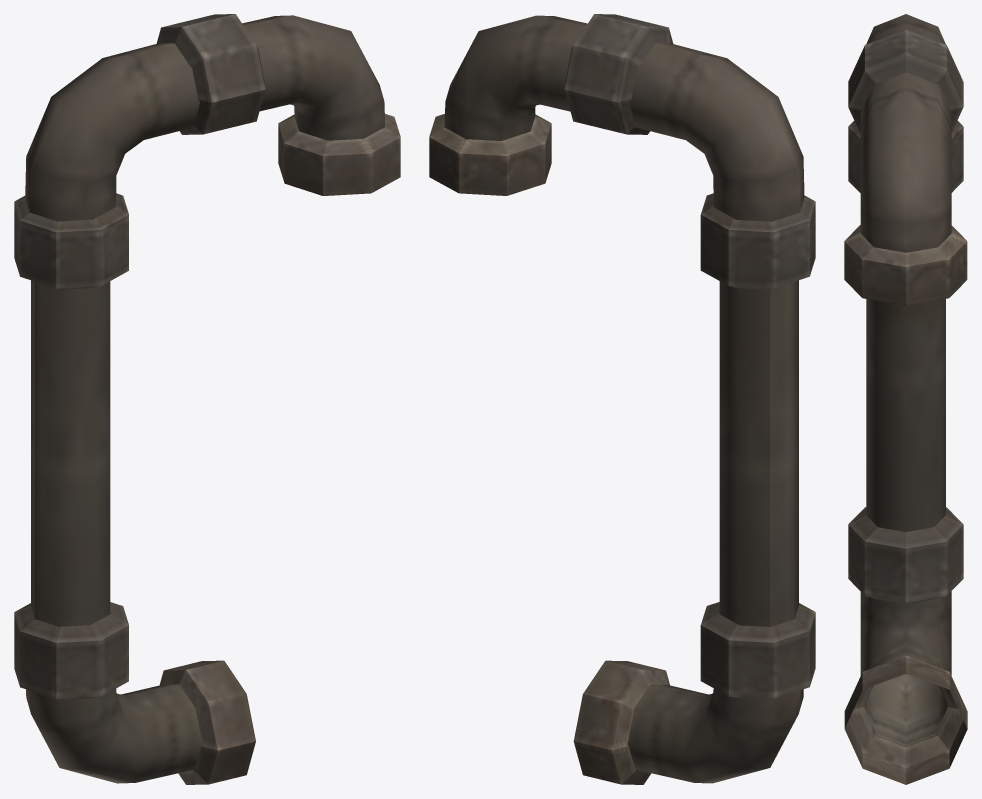
Rendered from pipe_4.FBX.
The picture shows the model from 3 angles, left to right: view 1: azimuth 30°, elevation 25°; view 2: azimuth 150°, elevation 25°; view 3: azimuth 270°, elevation 25°; orthographic projection. The views are drawn at different scales.
Visible parts, largest first — view 1: pipe_4; view 2: pipe_4; view 3: pipe_4.
Part boxes in pixels (bbox=[...]): pipe_4: bbox=[14, 14, 400, 784]; pipe_4: bbox=[429, 14, 815, 784]; pipe_4: bbox=[844, 14, 967, 784].
Bounding box in the file's own units: 17.08 × 33.09 × 5.02.
